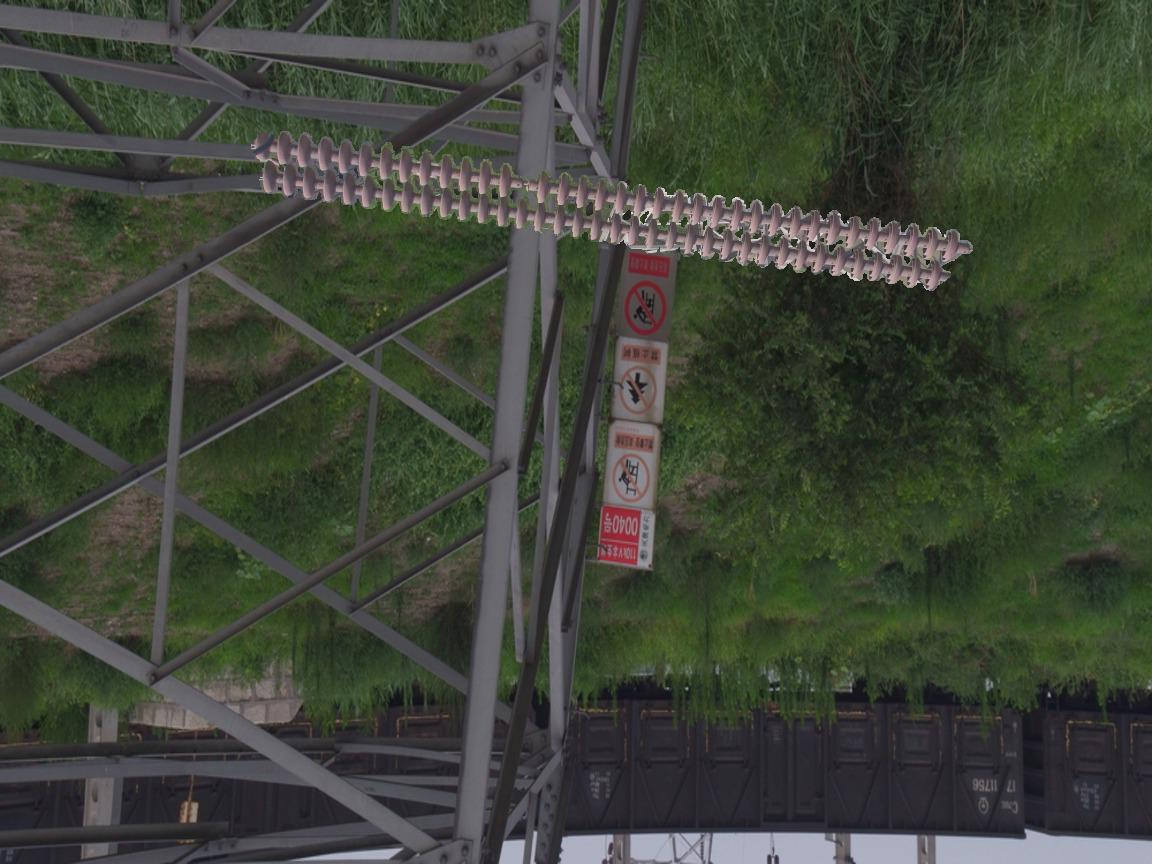insulator: (238, 127, 974, 298)
insulator_stringdrop: (493, 160, 555, 208)
